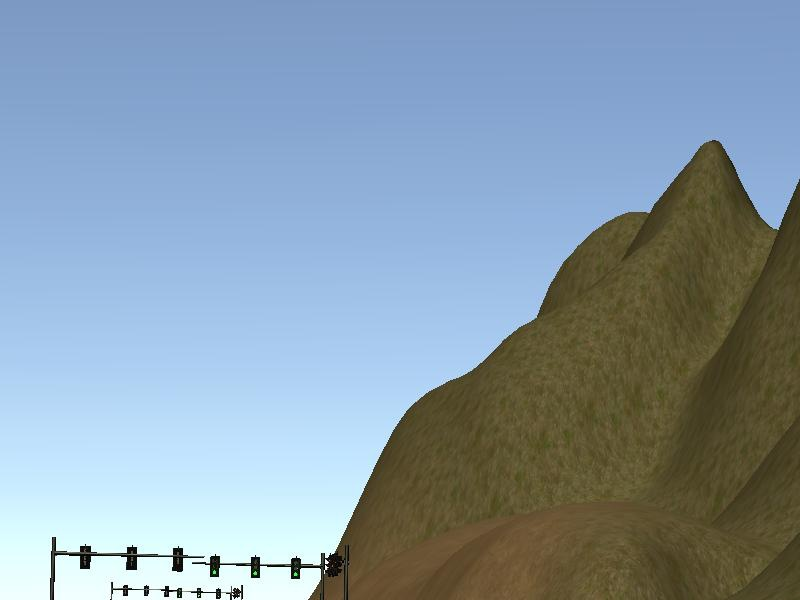Green: (290, 558, 300, 581), (250, 557, 260, 579), (210, 557, 220, 576)
